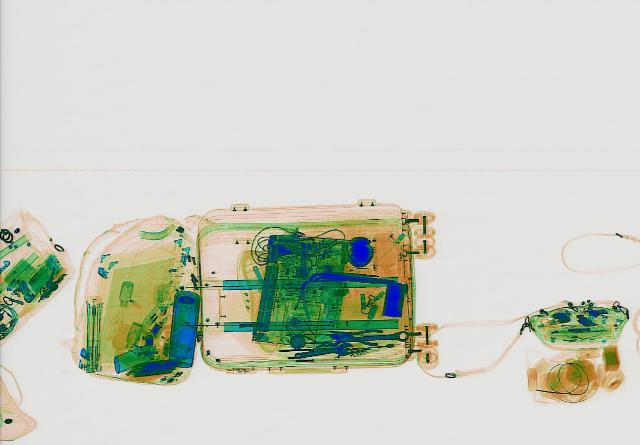Pliers: (324, 320, 386, 346)
Wrench: (324, 326, 408, 347), (292, 340, 352, 361)
